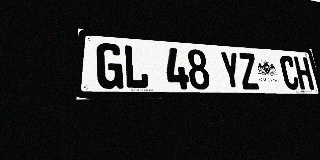4: (165, 47, 190, 89)
8: (186, 49, 211, 89)
C: (279, 55, 300, 90)
G: (96, 43, 123, 89)
H: (293, 56, 314, 90)
L: (123, 44, 149, 89)
Y: (219, 51, 242, 89)
Z: (237, 52, 260, 90)
